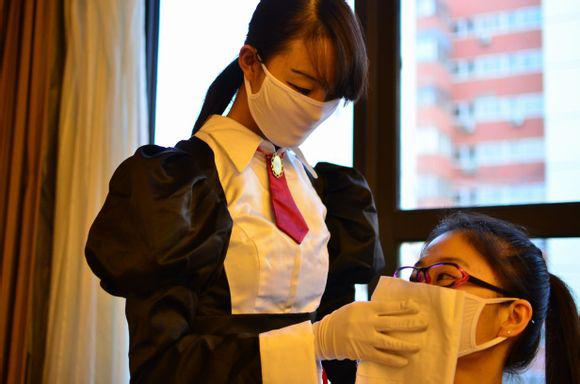OK: (412, 256, 507, 364), (247, 54, 342, 147)
